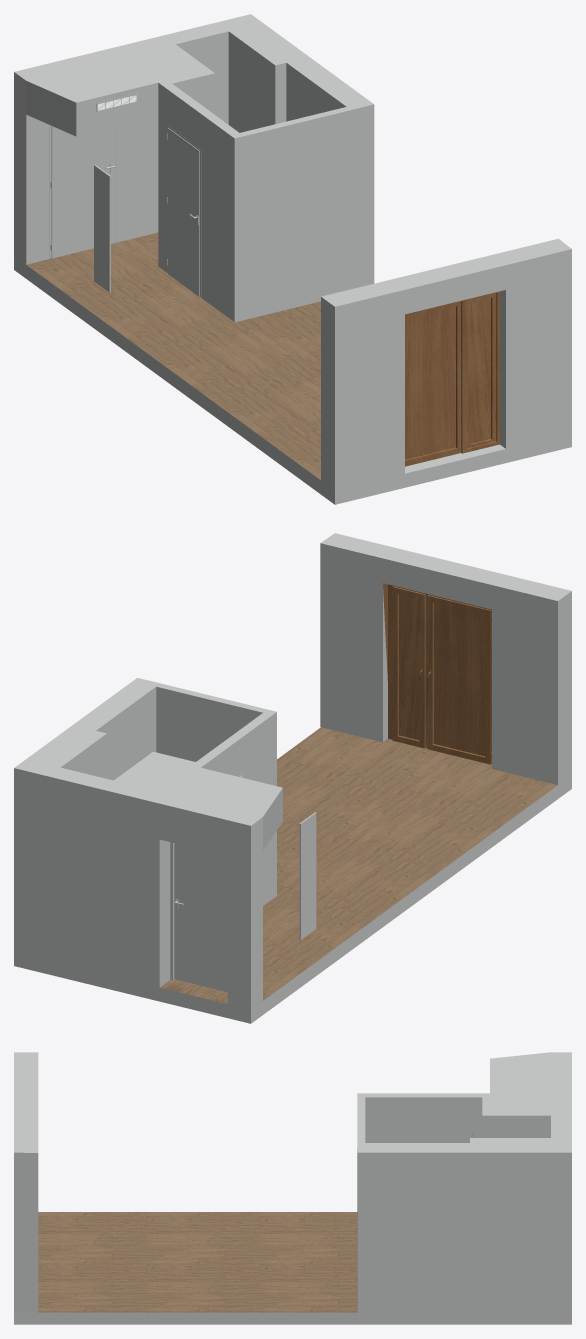
File: Room.gltf
3 views of the same model, one above another, from view 1: azimuth 30°, elevation 25°; view 2: azimuth 150°, elevation 25°; view 3: azimuth 270°, elevation 25° (orthographic). The views are drawn at different scales.
Parts seen in each view (by area): view 1: Room, Floor, Door_01; view 2: Room, Floor, Door_01; view 3: Room, Floor.
Boxes of the visible parts, bbox=[...] form: Room: bbox=[14, 14, 571, 504]; Floor: bbox=[24, 232, 320, 480]; Door_01: bbox=[405, 291, 499, 466]; Room: bbox=[14, 533, 571, 1023]; Floor: bbox=[160, 727, 557, 1003]; Door_01: bbox=[383, 583, 491, 764]; Room: bbox=[14, 1052, 571, 1324]; Floor: bbox=[38, 1212, 357, 1312].
Bounding box in the file's own units: 3.53 × 2.81 × 8.26.
Materials: 3 (2 with a texture image).
